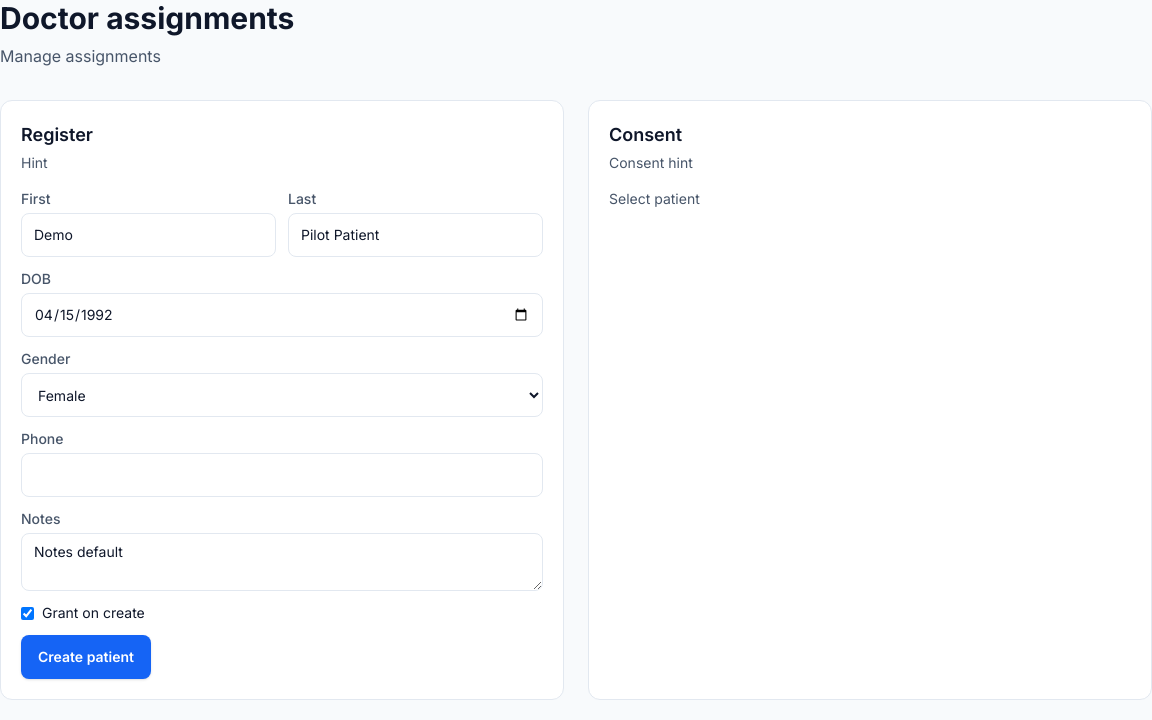
Test: ManagementPageContent › refetches patients, selects new patient, and shows page-level create success
Expected: the heading "Doctor assignments" is shown, [0, 0, 294, 36]
What coordinates should you click on to do the following:
click the button "Create patient"
I would click on:
 (86, 657)
Its box is [21, 635, 151, 679].
(page scrolled)
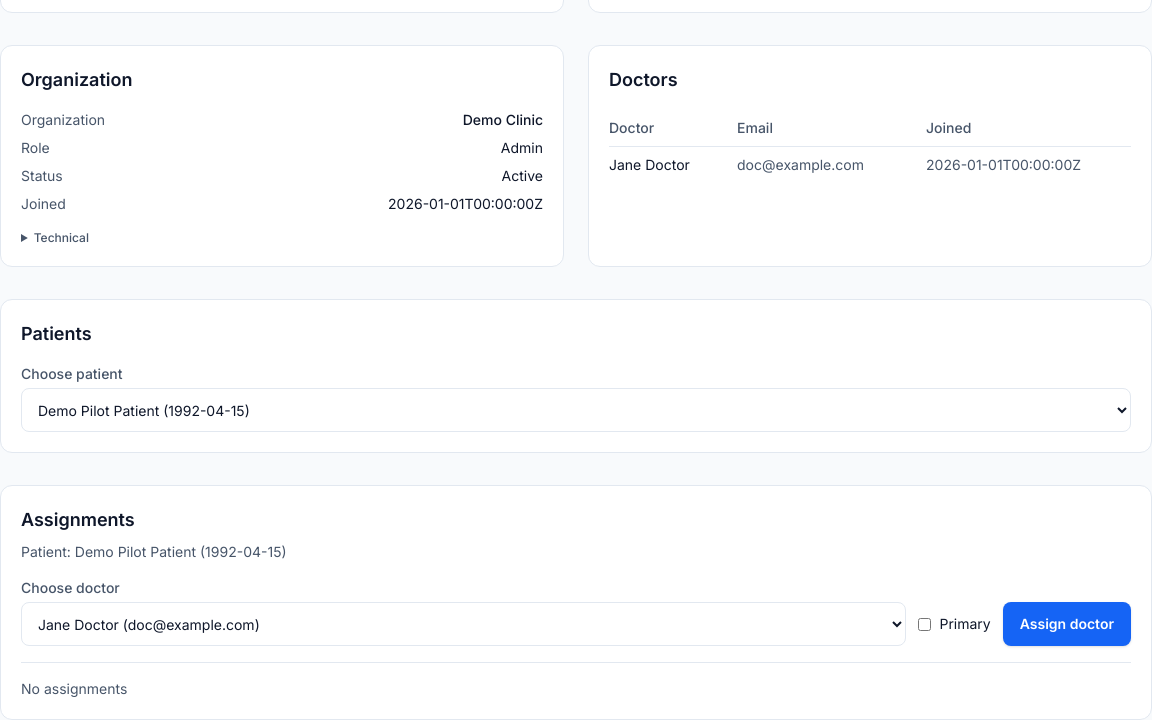
Now the dropdown labelled "Choose patient" shows "Demo Pilot Patient (1992-04-15)", box [21, 388, 1131, 432]
